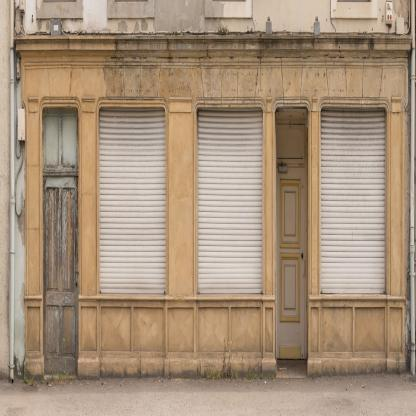Building Outline: (14, 0, 414, 379)
Door: (275, 106, 309, 377), (43, 176, 79, 373), (276, 165, 308, 358)
Facade: (14, 0, 414, 379)
Floor: (16, 0, 414, 36)
Floor Slab: (16, 36, 414, 50)
Ground Floor: (16, 49, 414, 378)
Molding: (13, 36, 413, 58)
Window: (321, 107, 388, 296), (99, 107, 166, 296), (197, 107, 264, 296), (277, 128, 303, 158), (63, 117, 76, 167), (45, 117, 58, 167)
